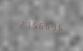five: (31, 19, 37, 30)
nine: (52, 21, 58, 32)
seven: (24, 18, 30, 30)
six: (38, 19, 44, 31), (59, 21, 65, 33), (45, 20, 51, 31)
two: (17, 17, 23, 29)
